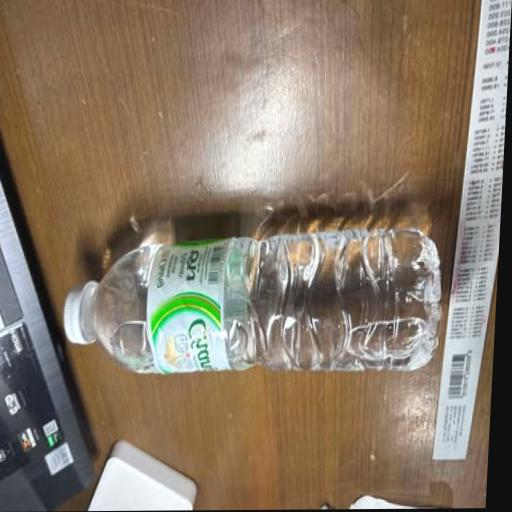bottle: (47, 200, 466, 413)
